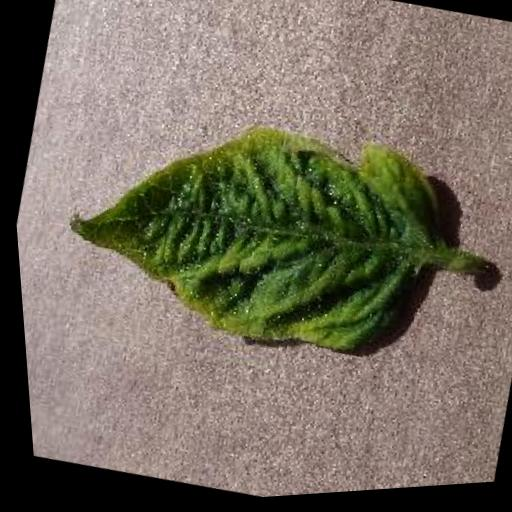Yellow Leaf Curl Virus: (37, 71, 459, 391)
